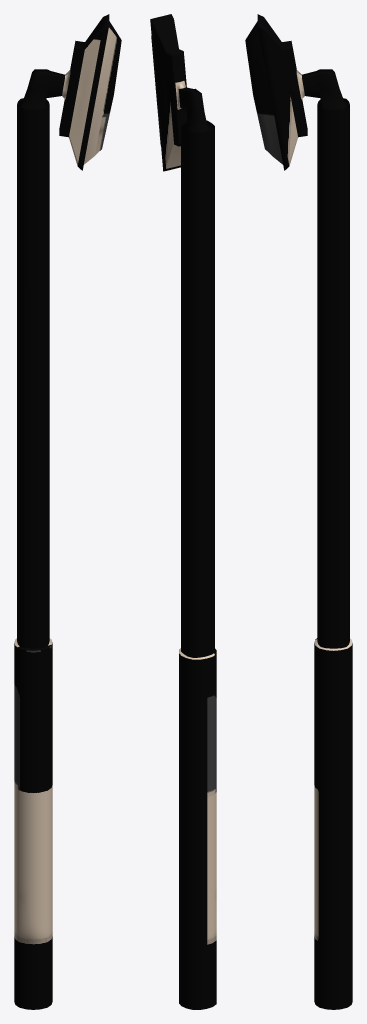
Rendered from LightPole.fbx.
3 views of the same model, side by side, from view 1: azimuth 90°, elevation 25°; view 2: azimuth 210°, elevation 25°; view 3: azimuth 270°, elevation 25° (orthographic). The views are drawn at different scales.
Visible parts, largest first — view 1: LightPole; view 2: LightPole; view 3: LightPole.
Boxes of the visible parts, x1,y1,x2,y2 form: LightPole: (14, 14, 121, 1009); LightPole: (150, 14, 216, 1009); LightPole: (245, 14, 352, 1009).
Size of the model in its own units: 13.94 by 384 by 38.04.
